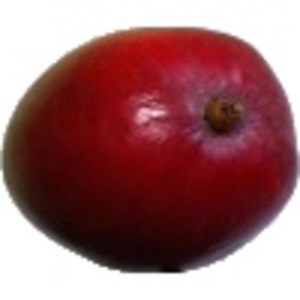manga: (1, 26, 300, 274)
